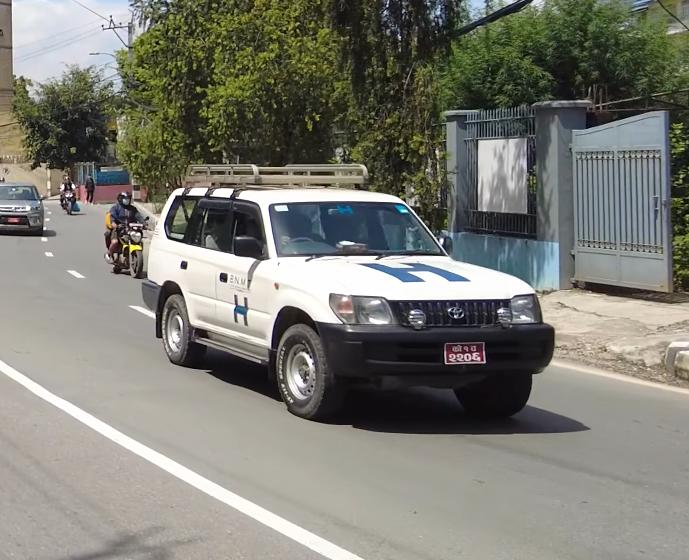SUV: (138, 155, 563, 440)
bike: (100, 212, 147, 278)
car: (0, 179, 51, 241)
